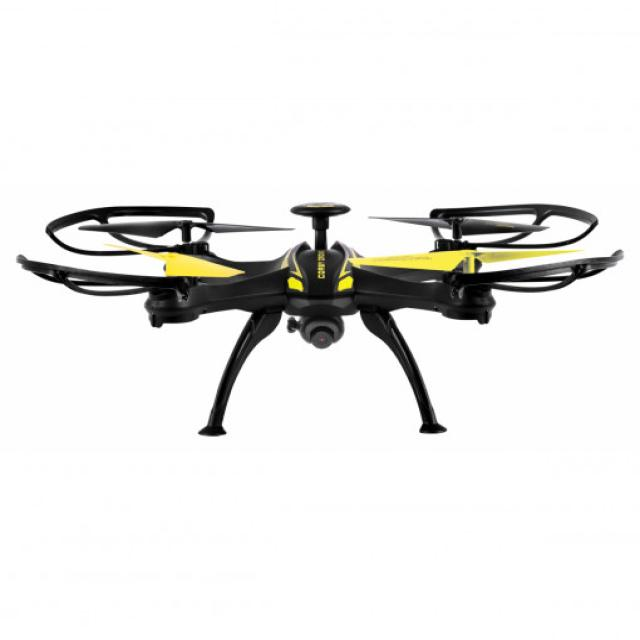drone: (25, 188, 634, 372)
